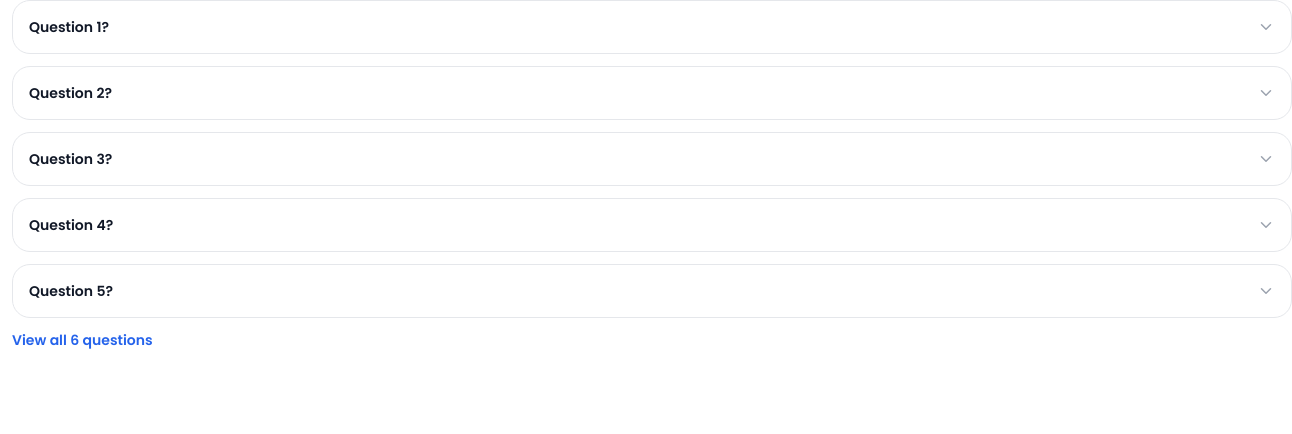
Test: BuyingGuideFaqAccordion › reveals the rest when "View all" is clicked and relabels itself
Click the button "View all 6 questions". click: (82, 340)
box: x1=12 y1=330 x2=153 y2=350
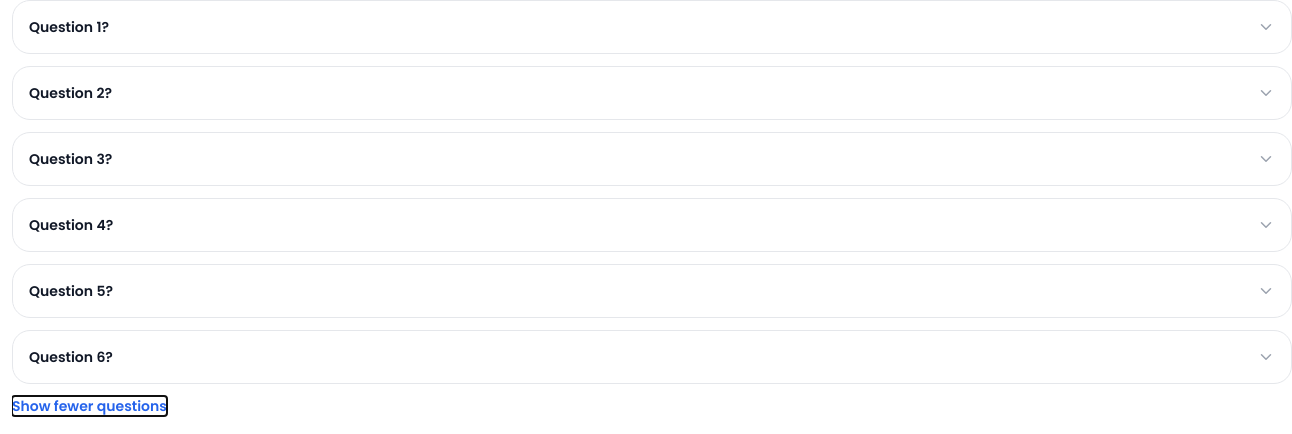
Check: the text "Question 6?" is shown, box x1=29 y1=347 x2=113 y2=367
Check: the button "Show fewer questions" is shown, box x1=12 y1=396 x2=167 y2=416
